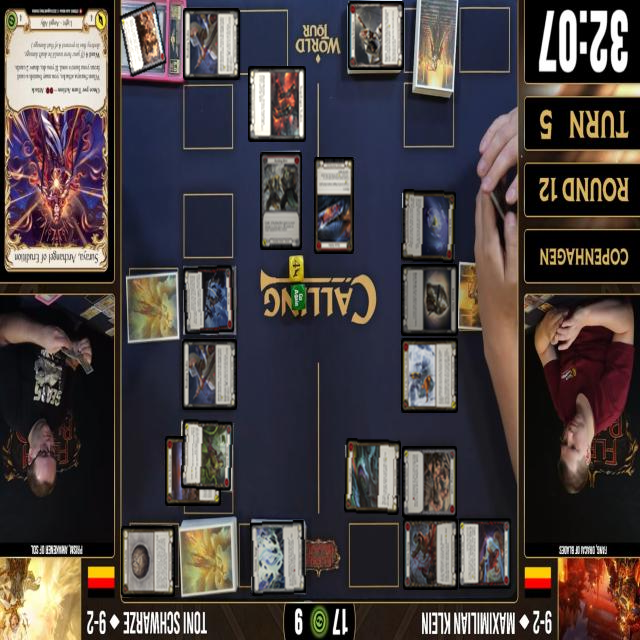Breaking_Scales_WTR080: (183, 8, 240, 80), (181, 339, 237, 409)
Buckling_Blow_WTR057: (259, 151, 302, 249)
Cartilage_Crush_WTR061: (401, 446, 457, 518)
Cracked_Bauble_WTR224: (120, 526, 174, 597)
Cranial_Crush_WTR045: (119, 0, 167, 78)
Flic_Flak_WTR092: (182, 264, 235, 336)
Flock_of_the_Feather_Walkers_WTR183: (400, 338, 457, 413)
Ironrot_Helm_WTR155: (400, 264, 457, 336)
Ironsong_Response_WTR134: (347, 0, 403, 70)
Open_the_Center_WTR097: (457, 516, 512, 589)
Razor_Reflex_WTR209: (314, 156, 354, 253)
Reckless_Swing_WTR008: (402, 518, 458, 590)
Savage_Feast_WTR016: (179, 417, 234, 491)
Scour_the_Battlescape_WTR195: (164, 435, 220, 505)
Seismic_Surge_WTR075: (249, 520, 306, 596)
Sink_Below_WTR216: (400, 189, 456, 263)
Sloggism_WTR222: (343, 437, 401, 515)
Snapdragon_Scalers_WTR154: (247, 66, 305, 142)
